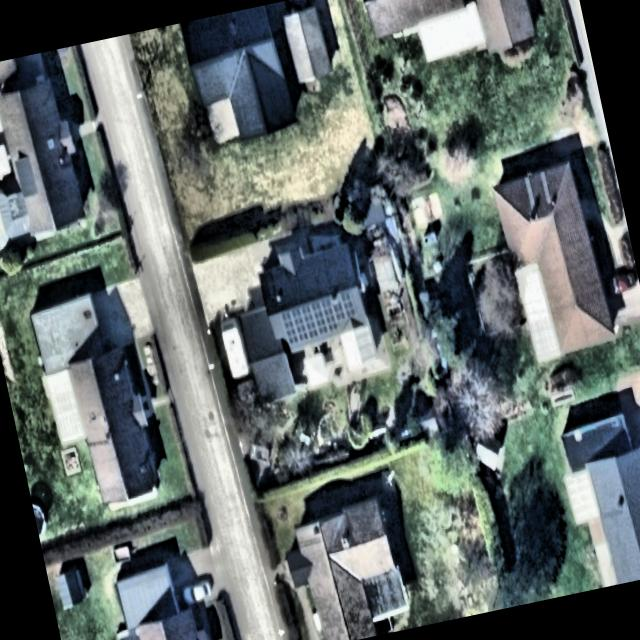roof_pv: (279, 295, 337, 345), (338, 290, 359, 324), (329, 304, 356, 324)
